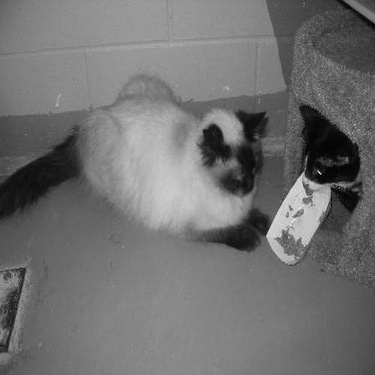cat: (1, 62, 276, 248), (277, 78, 363, 273)
